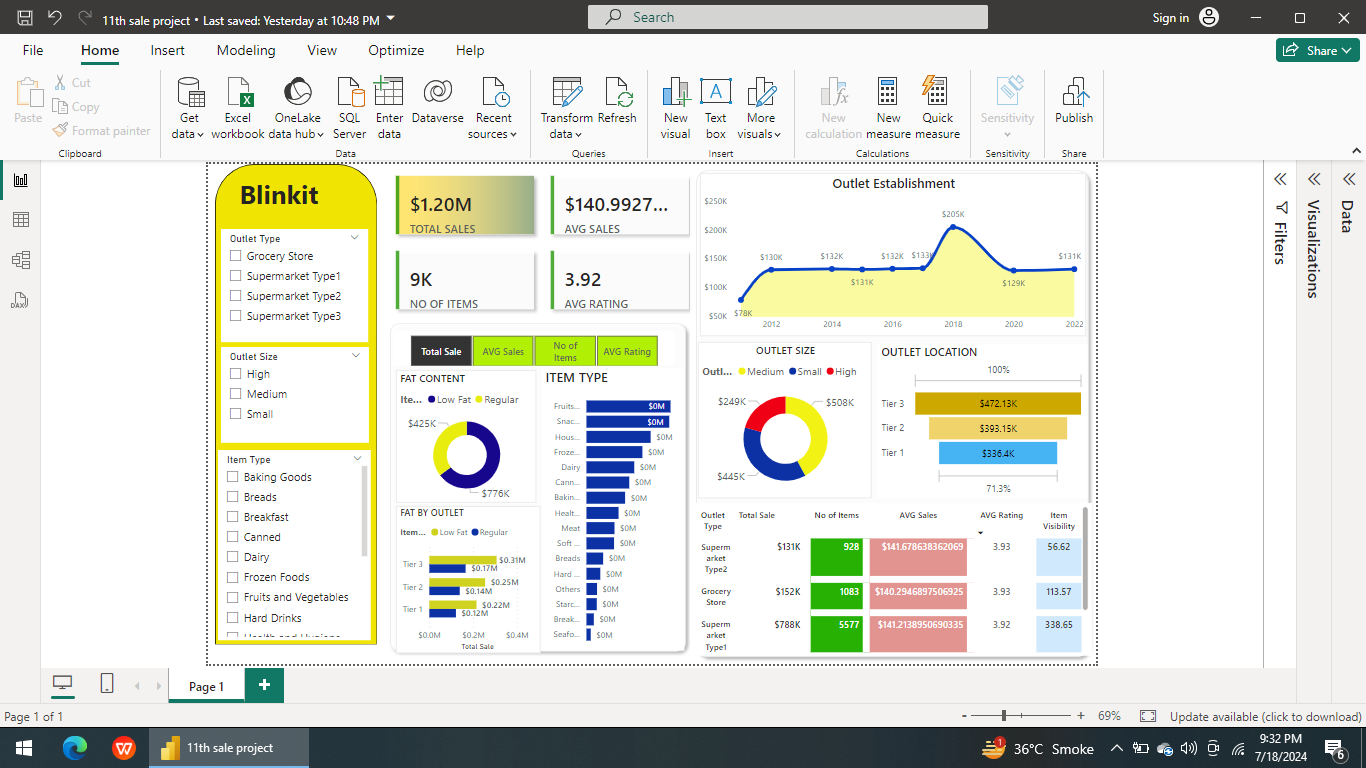

Layout of this report page (visuals, bound fields, positions):
{"tool":"powerbi","page":{"name":"Page 1","canvas":[1280,720],"ordinal":0},"visuals":[{"type":"shape","box":[10.1,0,233.5,692.1],"z":0},{"type":"textbox","box":[40.3,13.4,146.1,72.2],"z":1000},{"type":"cardVisual","fields":{"Data":["BlinkIT Grocery Data.Total Sale","BlinkIT Grocery Data.AVG Sales","BlinkIT Grocery Data.No of Items","BlinkIT Grocery Data.AVG Rating"]},"box":[253.6,0,456.9,226.8],"z":2000},{"type":"shape","box":[253.6,220.1,443.5,490.5],"z":3000},{"type":"donutChart","title":"FAT CONTENT","fields":{"Y":["BlinkIT Grocery Data.Total Sale"],"Category":["BlinkIT Grocery Data.Item Fat Content"]},"box":[270.4,297.3,201.6,191.5],"z":4000},{"type":"slicer","fields":{"Values":["Metrics.Metrics"]},"box":[267.1,240.2,404.8,50.4],"z":5000},{"type":"clusteredBarChart","title":"FAT BY OUTLET","fields":{"Y":["BlinkIT Grocery Data.Total Sale"],"Category":["BlinkIT Grocery Data.Outlet Location Type"],"Series":["BlinkIT Grocery Data.Item Fat Content"]},"box":[270.4,492.2,208.3,211.7],"z":6000},{"type":"barChart","title":"ITEM TYPE","fields":{"Y":["BlinkIT Grocery Data.Total Sale"],"Category":["BlinkIT Grocery Data.Item Type"]},"box":[480.4,294,204.9,406.5],"z":7000},{"type":"shape","box":[693.8,0,582.9,719],"z":8000},{"type":"lineChart","title":"Outlet Establishment ","fields":{"Y":["BlinkIT Grocery Data.Total Sale"],"Category":["BlinkIT Grocery Data.Outlet Establishment Year"]},"box":[708.9,13.4,556,235.2],"z":9000},{"type":"donutChart","title":"OUTLET SIZE ","fields":{"Y":["BlinkIT Grocery Data.Total Sale"],"Category":["BlinkIT Grocery Data.Outlet Size"]},"box":[705.5,257,250,225],"z":10000},{"type":"funnel","title":"OUTLET LOCATION","fields":{"Category":["BlinkIT Grocery Data.Outlet Location Type"],"Y":["BlinkIT Grocery Data.Total Sale"]},"box":[964.2,258.7,302.4,221.7],"z":11000},{"type":"pivotTable","fields":{"Rows":["BlinkIT Grocery Data.Outlet Type"],"Values":["BlinkIT Grocery Data.Total Sale","BlinkIT Grocery Data.No of Items","BlinkIT Grocery Data.AVG Sales","BlinkIT Grocery Data.AVG Rating","BlinkIT Grocery Data.Item Visibility"]},"box":[700.5,488.8,572.8,220.1],"z":12000},{"type":"slicer","fields":{"Values":["BlinkIT Grocery Data.Outlet Type"]},"box":[18.5,94.1,211.7,162.9],"z":13000},{"type":"slicer","fields":{"Values":["BlinkIT Grocery Data.Outlet Size"]},"box":[18.5,263.7,213.3,137.7],"z":14000},{"type":"slicer","fields":{"Values":["BlinkIT Grocery Data.Item Type"]},"box":[15.1,411.5,220.1,273.8],"z":15000}]}

Visuals, with their boxes on the page's 1280x720 design canvas (x1, y1, x2, y2). These are canvas units, not pixel positions in the 1366x768 screenshot, which may show the page scaled, cropped or inside an application window:
shape: box(10, 0, 244, 692)
textbox: box(40, 13, 186, 86)
cardVisual - BlinkIT Grocery Data.Total Sale x BlinkIT Grocery Data.AVG Sales: box(254, 0, 710, 227)
shape: box(254, 220, 697, 711)
"FAT CONTENT" donutChart: box(270, 297, 472, 489)
slicer - Metrics.Metrics: box(267, 240, 672, 291)
"FAT BY OUTLET" clusteredBarChart: box(270, 492, 479, 704)
"ITEM TYPE" barChart: box(480, 294, 685, 700)
shape: box(694, 0, 1277, 719)
"Outlet Establishment " lineChart: box(709, 13, 1265, 249)
"OUTLET SIZE " donutChart: box(706, 257, 956, 482)
"OUTLET LOCATION" funnel: box(964, 259, 1267, 480)
pivotTable - BlinkIT Grocery Data.Outlet Type x BlinkIT Grocery Data.Total Sale: box(700, 489, 1273, 709)
slicer - BlinkIT Grocery Data.Outlet Type: box(18, 94, 230, 257)
slicer - BlinkIT Grocery Data.Outlet Size: box(18, 264, 232, 401)
slicer - BlinkIT Grocery Data.Item Type: box(15, 412, 235, 685)
